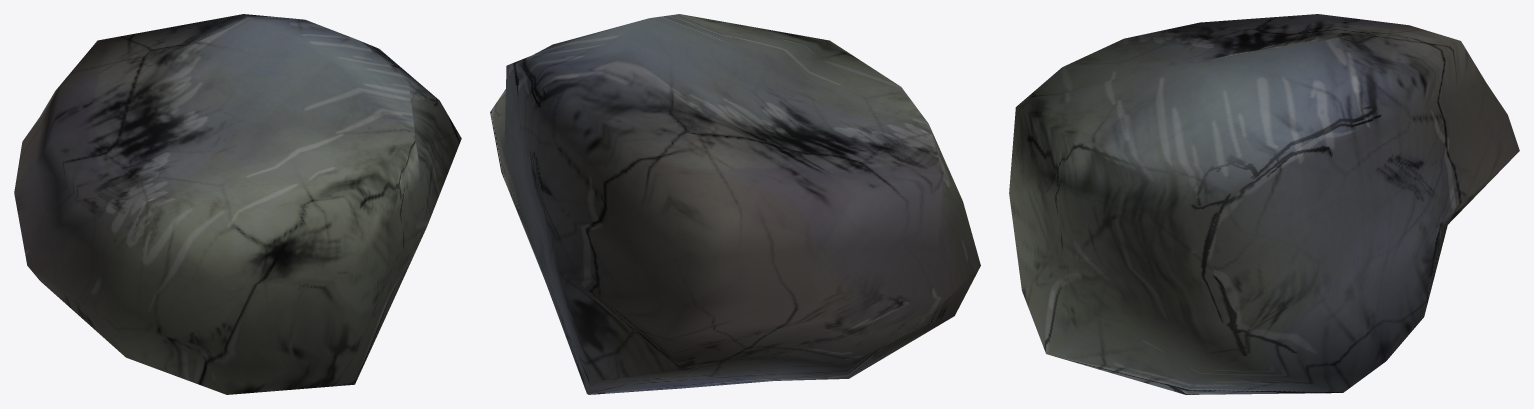
Rendered from Rock_03D.fbx.
3 views of the same model, side by side, from view 1: azimuth 30°, elevation 25°; view 2: azimuth 150°, elevation 25°; view 3: azimuth 270°, elevation 25° (orthographic). The views are drawn at different scales.
Parts seen in each view (by area): view 1: Rock01:Mesh8; view 2: Rock01:Mesh8; view 3: Rock01:Mesh8.
Part boxes in pixels (left/top/right/bottom): Rock01:Mesh8: left=14, top=14, right=461, bottom=394; Rock01:Mesh8: left=490, top=14, right=980, bottom=394; Rock01:Mesh8: left=1009, top=14, right=1519, bottom=394.
Size of the model in its own units: 8.5 by 6.04 by 7.85.
